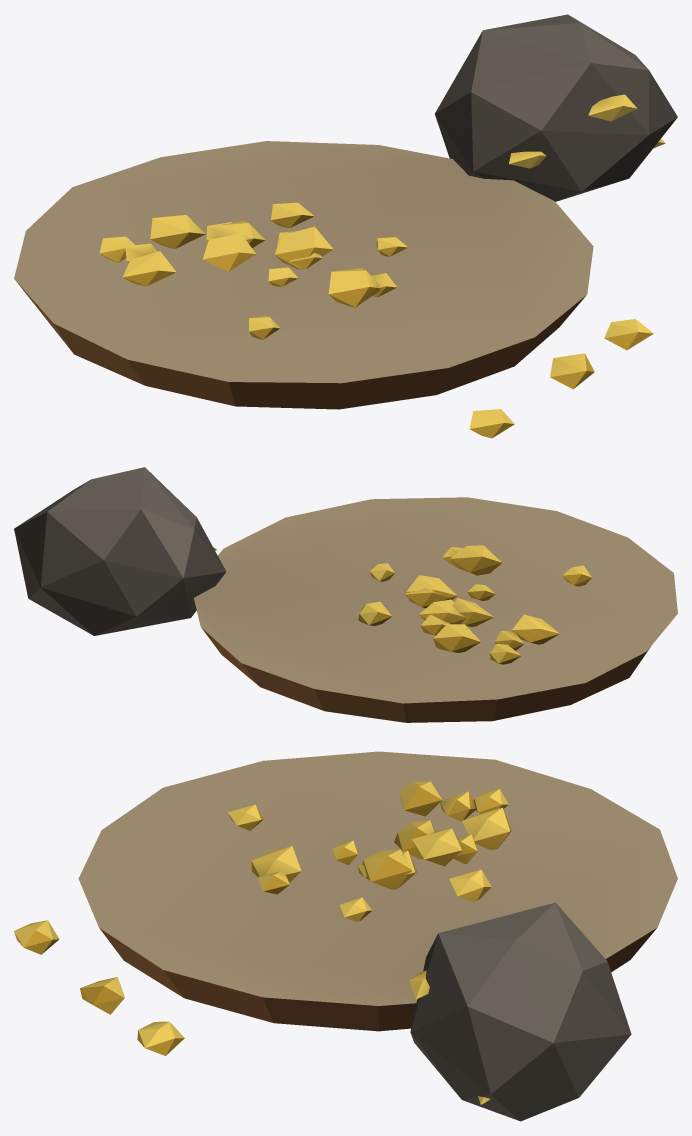
3 views of the same model, one above another, from view 1: azimuth 30°, elevation 25°; view 2: azimuth 150°, elevation 25°; view 3: azimuth 270°, elevation 25° (orthographic). The views are drawn at different scales.
Visible parts, largest first — view 1: base; view 2: base; view 3: base.
Boxes of the visible parts, left/top/right/bottom form: base: left=14, top=14, right=677, bottom=438; base: left=14, top=467, right=677, bottom=722; base: left=14, top=751, right=677, bottom=1121.
Bounding box in the file's own units: 0.5936 × 0.1451 × 0.4835.
